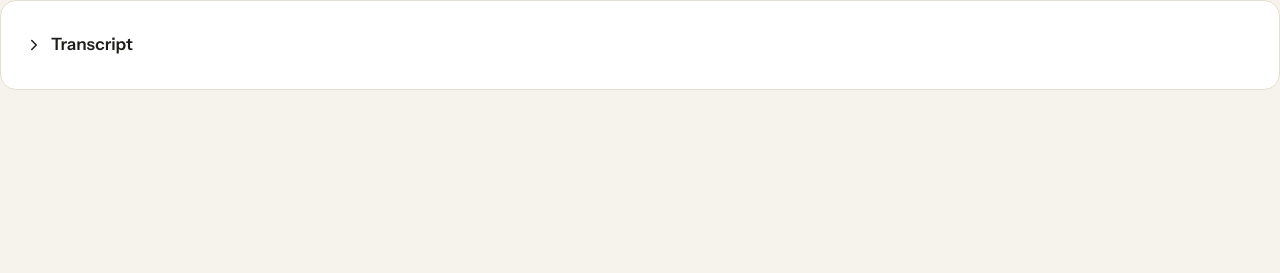
TranscriptPanel › opens and closes with the button
The image size is (1280, 273).
Step 1. Click the button "Transcript" → [79, 45], box [17,23,141,67]
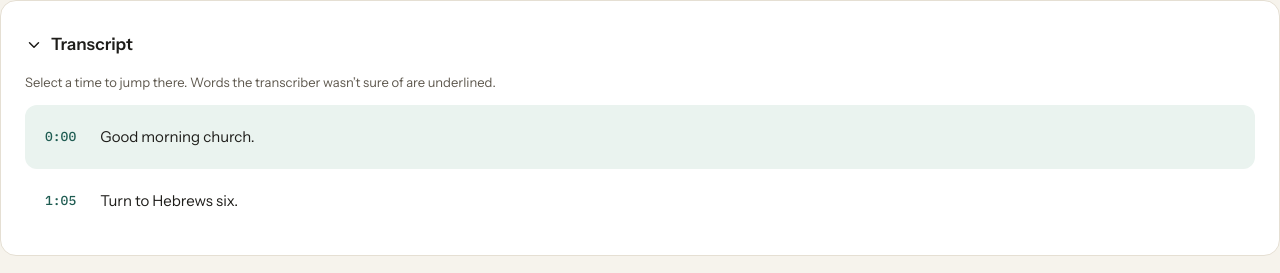
Expected: the button "Transcript" is expanded
Expected: the text "Good morning church." is shown, [100,126,255,146]
Step 2. Click the button "Transcript" → [79, 45], box [17,23,141,67]
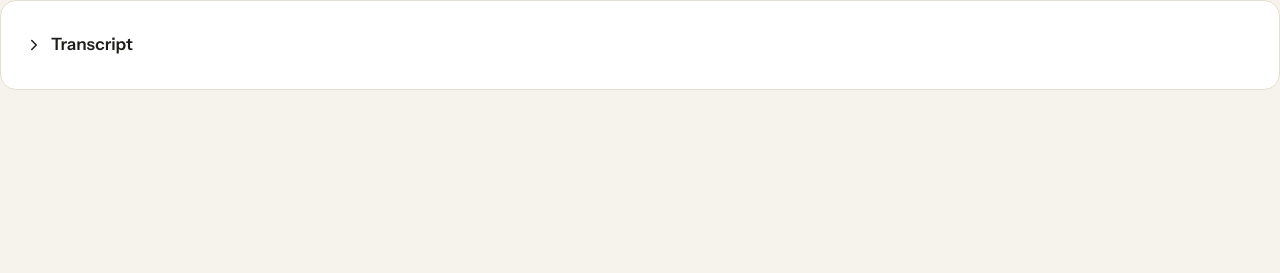
Expected: the button "Transcript" is collapsed, [17,23,141,67]
